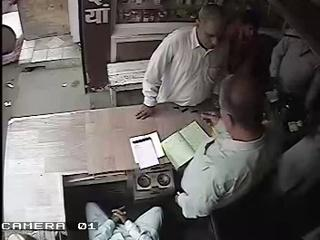Normal: (174, 74, 284, 224), (135, 4, 227, 124), (273, 77, 320, 240), (85, 202, 163, 239)
